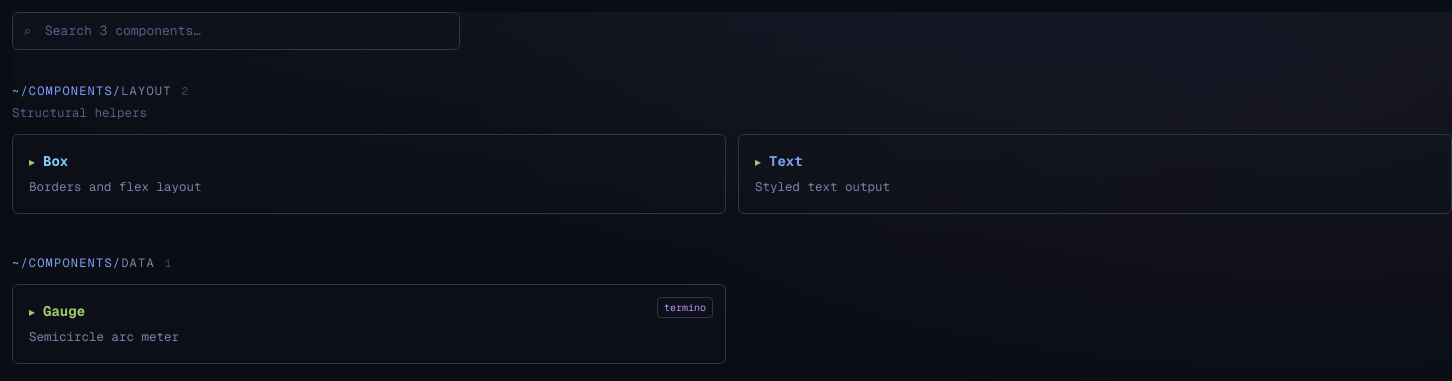
Scenario: ComponentGallery › filters items by description
In the field: (236, 31) [12,12,460,50], type "semicircle"
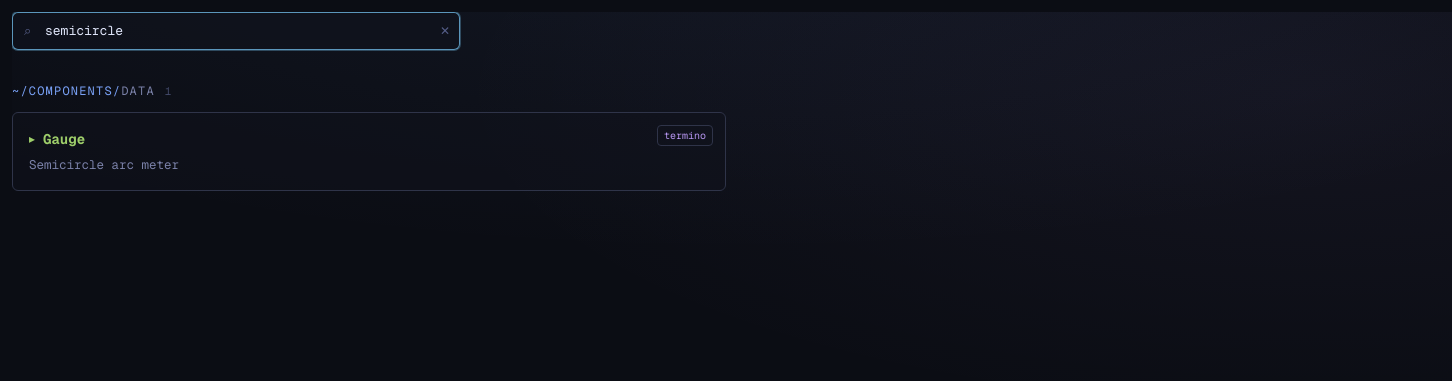
Expected: the link "termino ▸ Gauge Semicircle arc meter" is shown, [12,112,726,191]
Now the link "Text" is gone
